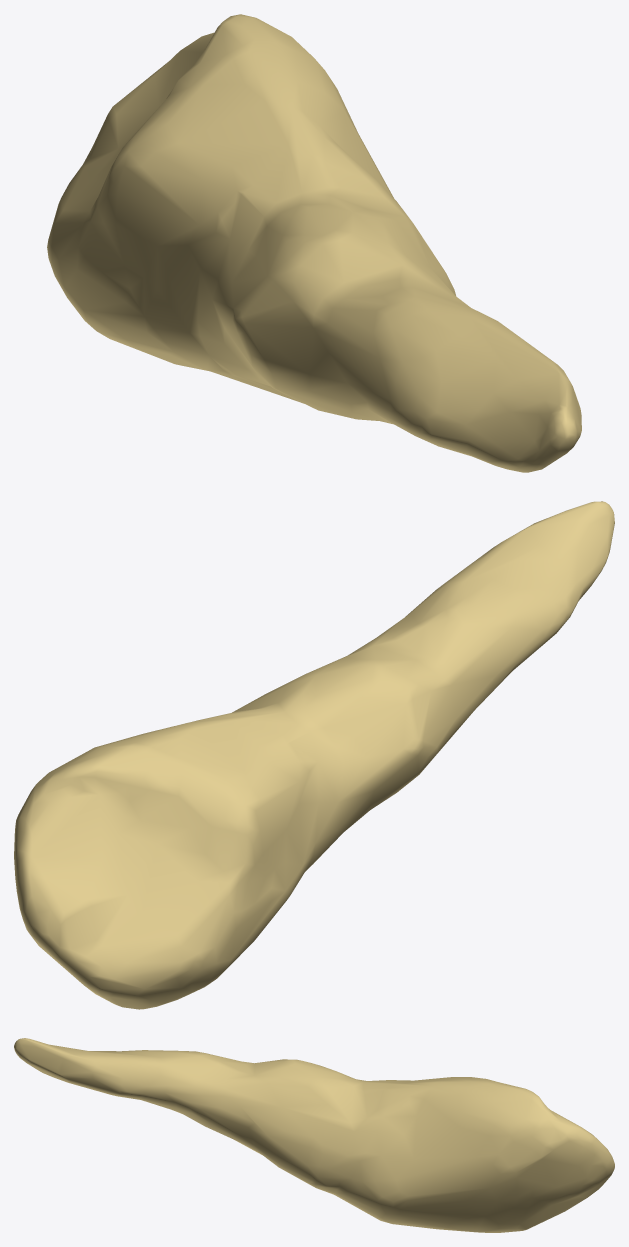
3 views of the same model, one above another, from view 1: azimuth 30°, elevation 25°; view 2: azimuth 150°, elevation 25°; view 3: azimuth 270°, elevation 25° (orthographic). The views are drawn at different scales.
Parts seen in each view (by area): view 1: 左侧上颌尖牙; view 2: 左侧上颌尖牙; view 3: 左侧上颌尖牙.
Boxes of the visible parts, bbox=[...] form: 左侧上颌尖牙: bbox=[47, 14, 581, 472]; 左侧上颌尖牙: bbox=[14, 501, 614, 1009]; 左侧上颌尖牙: bbox=[14, 1038, 614, 1232].
Bounding box in the file's own units: 0.0133 × 0.0134 × 0.0451.
